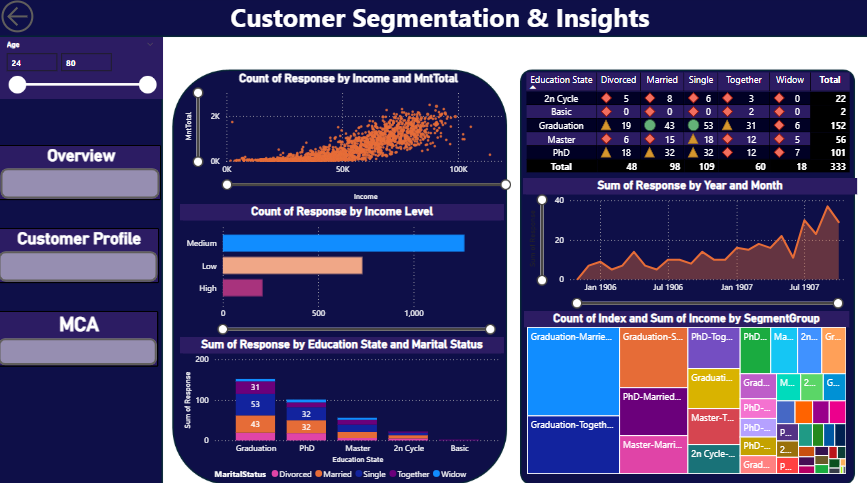

The dashboard page shown, as its layout file describes it:
{"tool":"powerbi","page":{"name":"Customer Segmentation","canvas":[1280,720],"ordinal":3},"visuals":[{"type":"textbox","box":[333.3,0,634.9,60.3],"z":0},{"type":"clusteredBarChart","title":"Count of Response by Income Level","fields":{"Category":["ifood_df.IncomeLevel","ifood_df.AgeGroup"],"Y":["CountNonNull(ifood_df.Response)"]},"box":[268.3,306.3,476.2,195.2],"z":1000},{"type":"treemap","fields":{"Values":["CountNonNull(ifood_df.Index)"],"Group":["ifood_df.SegmentGroup"]},"box":[774.6,463.5,477.8,244.4],"z":2000},{"type":"scatterChart","fields":{"X":["ifood_df.Income"],"Y":["ifood_df.MntTotal"],"Size":["CountNonNull(ifood_df.Response)"]},"box":[267.7,110.8,498.5,195.4],"z":3000},{"type":"columnChart","title":"Sum of Response by Education State and Marital Status","fields":{"Category":["ifood_df.Education State"],"Series":["ifood_df.MaritalStatus"],"Y":["Sum(ifood_df.Response)"]},"box":[268.3,501.6,476.2,219],"z":4000},{"type":"pivotTable","fields":{"Rows":["ifood_df.Education State"],"Columns":["ifood_df.MaritalStatus"],"Values":["Sum(ifood_df.Response)"]},"box":[772.3,107.7,490.8,160],"z":5000},{"type":"areaChart","fields":{"Category":["ifood_df.Customer_Days.Variation.Date Hierarchy.Year","ifood_df.Customer_Days.Variation.Date Hierarchy.Month"],"Y":["Sum(ifood_df.Response)"]},"box":[772.3,267.7,490.8,195.4],"z":6000},{"type":"slicer","fields":{"Values":["ifood_df.Age"]},"box":[1.5,60.2,241,89.6],"z":7000},{"type":"actionButton","title":"Overview","box":[2.9,218.9,238,80.8],"z":8000},{"type":"actionButton","title":"Customer Profile","box":[0,340.9,238,80.8],"z":9000},{"type":"actionButton","title":"MCA","box":[0,463.1,236.9,81.5],"z":10000},{"type":"actionButton","box":[0,0,63.5,60.3],"z":11000}]}

Visuals, with their boxes in screenshot pixels (x1, y1, x2, y2), scaled from the page's 1280x720 canvas onto the 867x483 screenshot:
textbox: region(226, 0, 656, 40)
"Count of Response by Income Level" clusteredBarChart: region(182, 205, 504, 336)
treemap - CountNonNull(ifood_df.Index) x ifood_df.SegmentGroup: region(525, 311, 848, 475)
scatterChart - ifood_df.Income x ifood_df.MntTotal: region(181, 74, 519, 205)
"Sum of Response by Education State and Marital Status" columnChart: region(182, 336, 504, 482)
pivotTable - ifood_df.Education State x ifood_df.MaritalStatus: region(523, 72, 856, 180)
areaChart - ifood_df.Customer_Days.Variation.Date Hierarchy.Year x ifood_df.Customer_Days.Variation.Date Hierarchy.Month: region(523, 180, 856, 311)
slicer - ifood_df.Age: region(1, 40, 164, 100)
"Overview" actionButton: region(2, 147, 163, 201)
"Customer Profile" actionButton: region(0, 229, 161, 283)
"MCA" actionButton: region(0, 311, 160, 365)
actionButton: region(0, 0, 43, 40)
